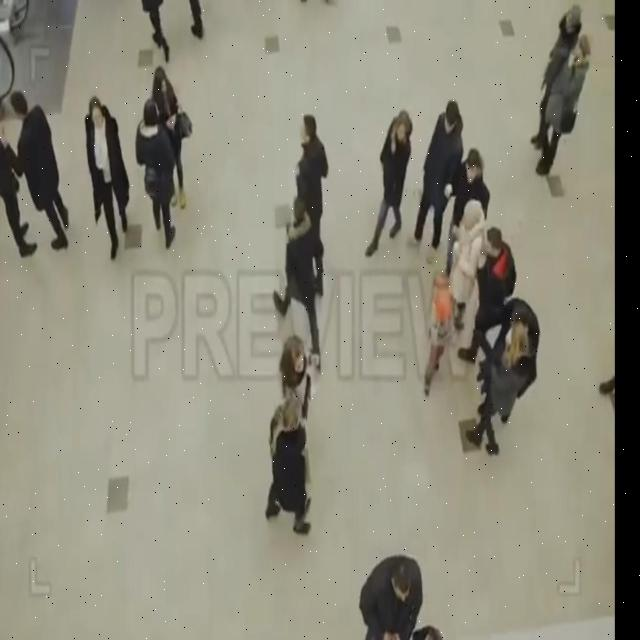humans: (12, 82, 72, 258), (464, 324, 536, 461), (270, 194, 335, 344), (533, 36, 594, 177), (81, 94, 130, 265), (528, 5, 579, 154), (293, 108, 333, 297), (419, 103, 465, 265), (265, 398, 311, 542), (367, 110, 411, 257), (354, 552, 423, 640), (136, 98, 175, 251), (153, 61, 192, 213), (0, 121, 40, 262), (450, 140, 490, 266), (421, 272, 455, 402), (475, 226, 522, 314), (273, 336, 315, 413)
